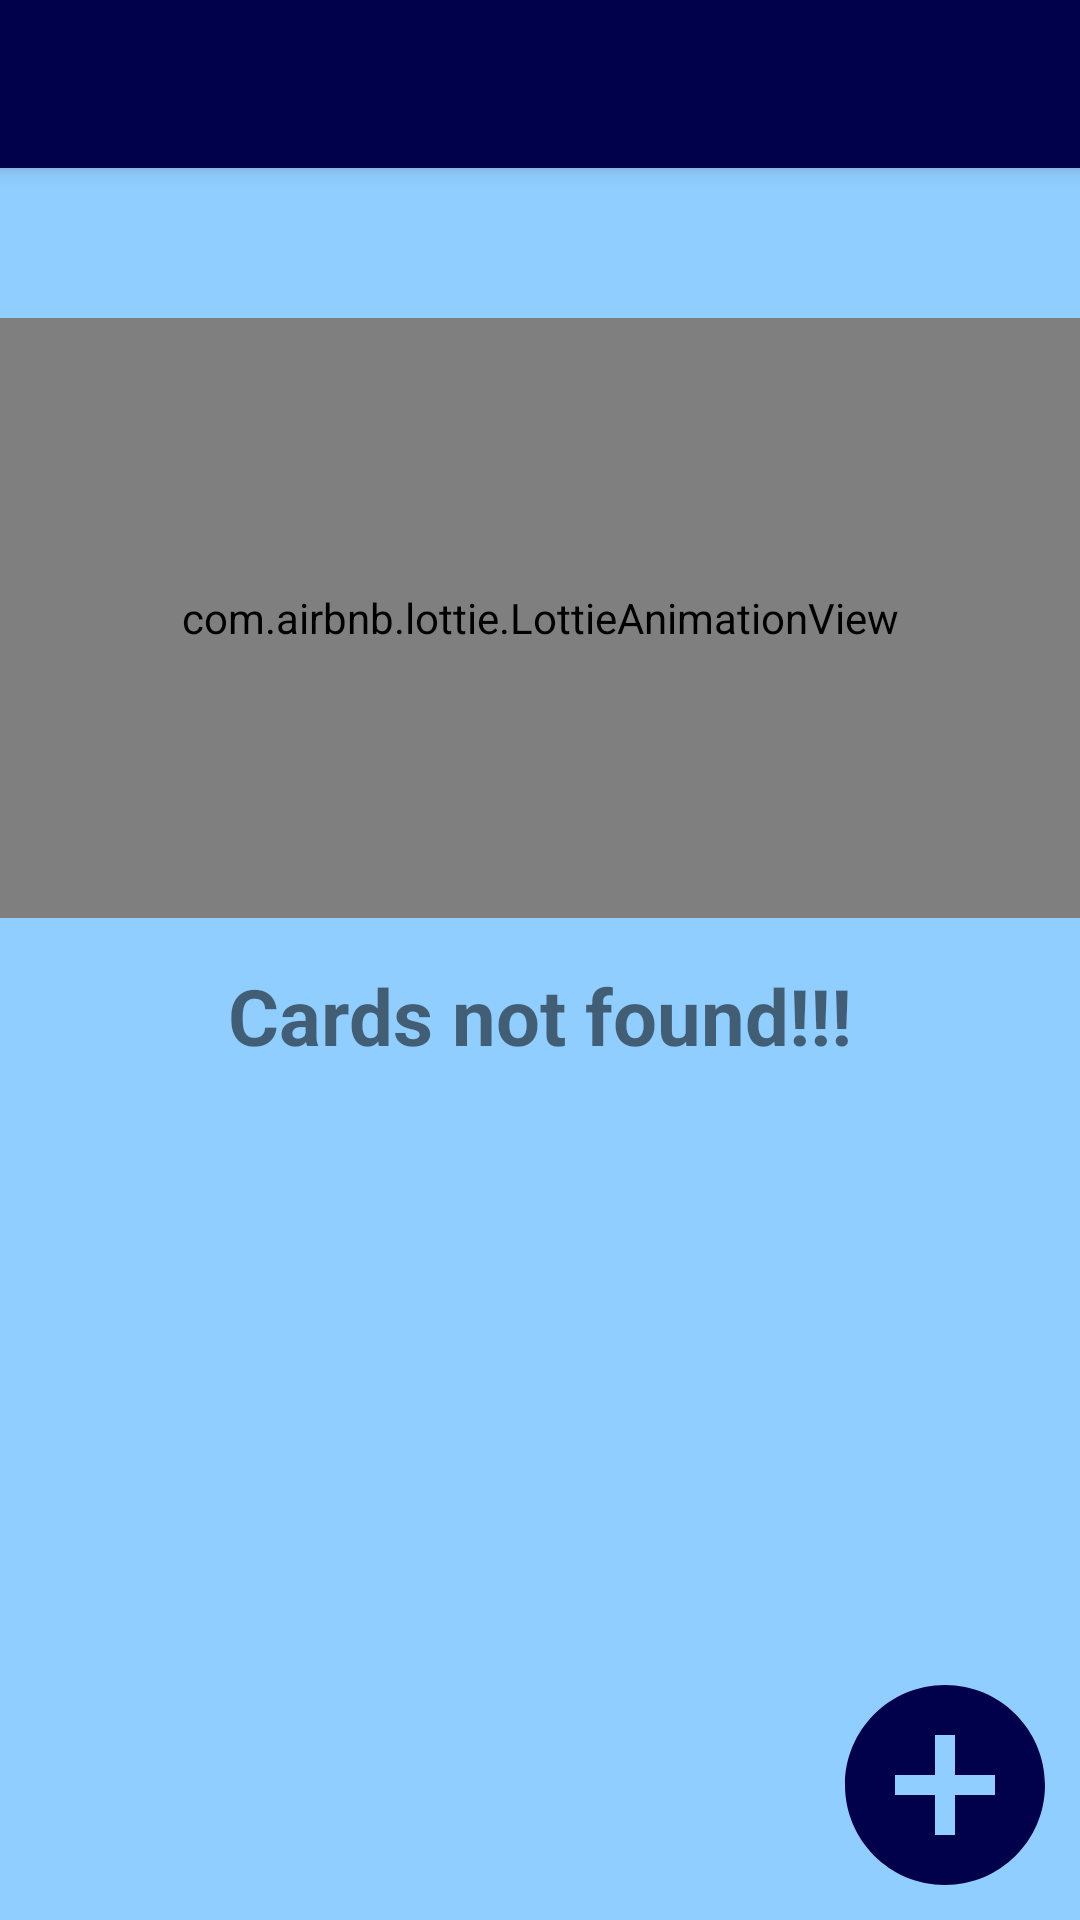

Icons on this 1080 × 1920 Android screen, each with the point to tap as (x=x, y=y):
add: (x=945, y=1785)
